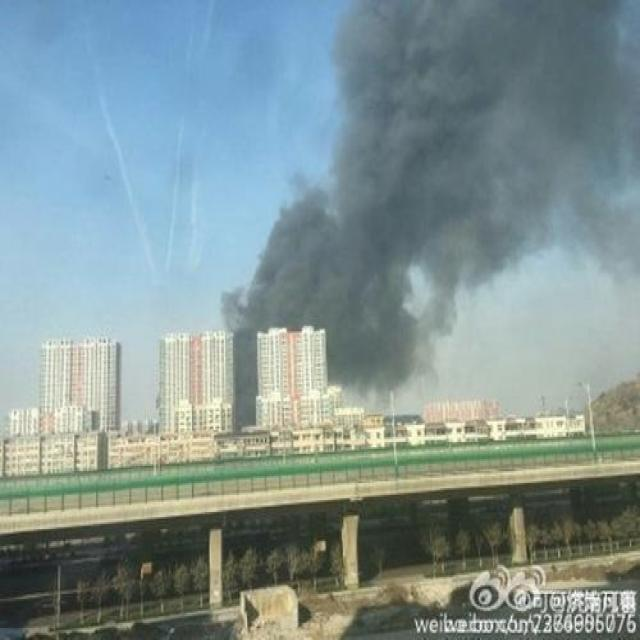Smoke: (219, 1, 640, 432)
